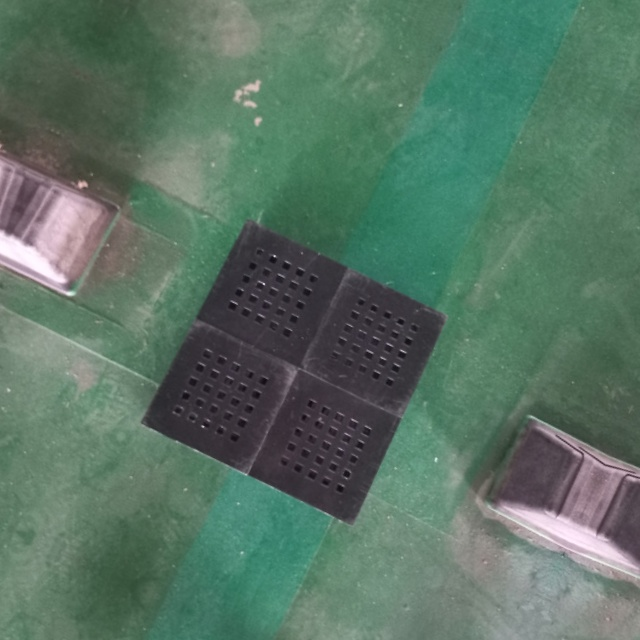pallet: (133, 206, 456, 534)
